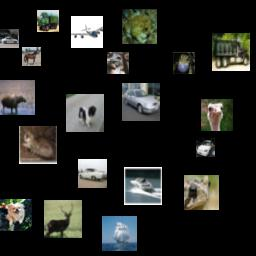airplane: (71, 16, 103, 48)
automobile: (122, 83, 160, 121), (78, 159, 107, 188), (0, 29, 19, 48), (196, 138, 215, 157)
bird: (201, 99, 233, 131), (107, 52, 129, 74)
cat: (19, 126, 57, 164)
deer: (44, 200, 82, 238), (0, 80, 35, 115)
dog: (66, 94, 104, 132), (0, 199, 32, 231)
frog: (184, 175, 219, 210), (122, 9, 157, 44), (173, 52, 195, 74)
ship: (124, 167, 162, 205), (102, 216, 137, 251)
truck: (212, 33, 250, 71), (37, 10, 59, 32)
